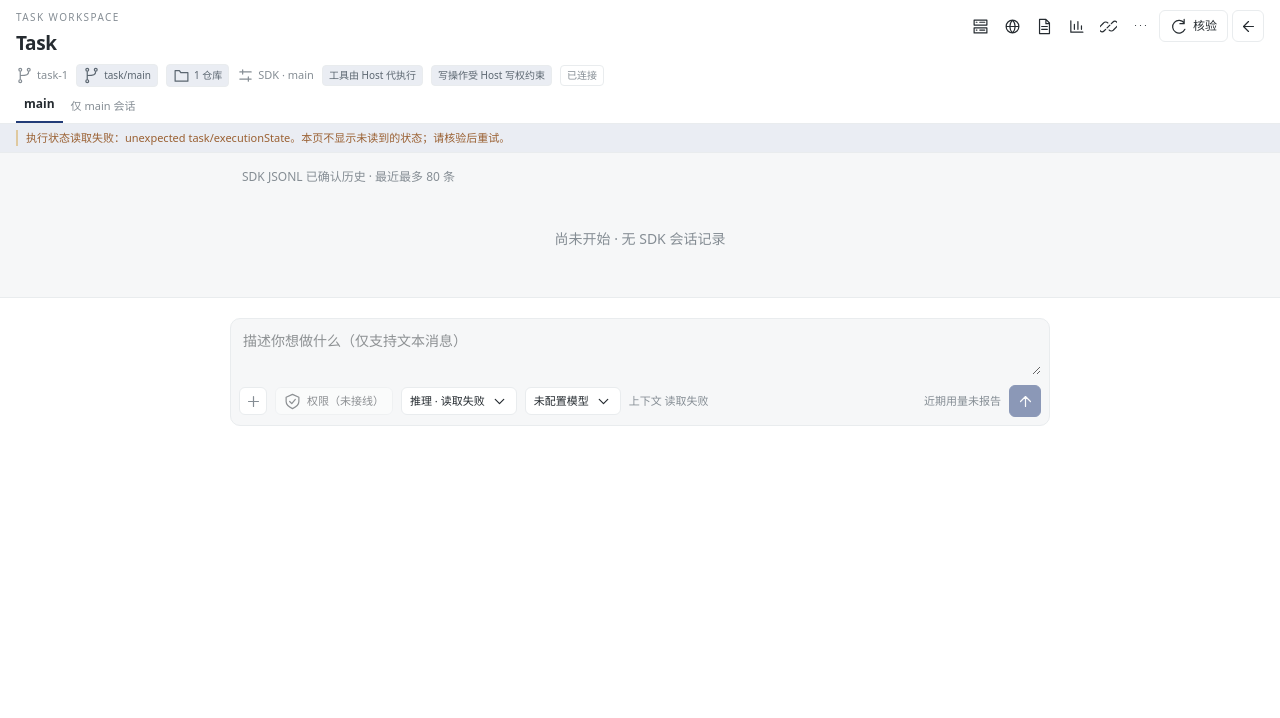
[PiDock 15] (#15 盒 3) 文件引用在桌面输入区 › puts a worktree file reference in the composer with its root name and source
Check: the text "尚未开始 · 无 SDK 会话记录" is shown, box left=554, top=229, right=725, bottom=248
Step 1. Click the button named "文件" → (1045, 26), box left=1031, top=12, right=1059, bottom=40
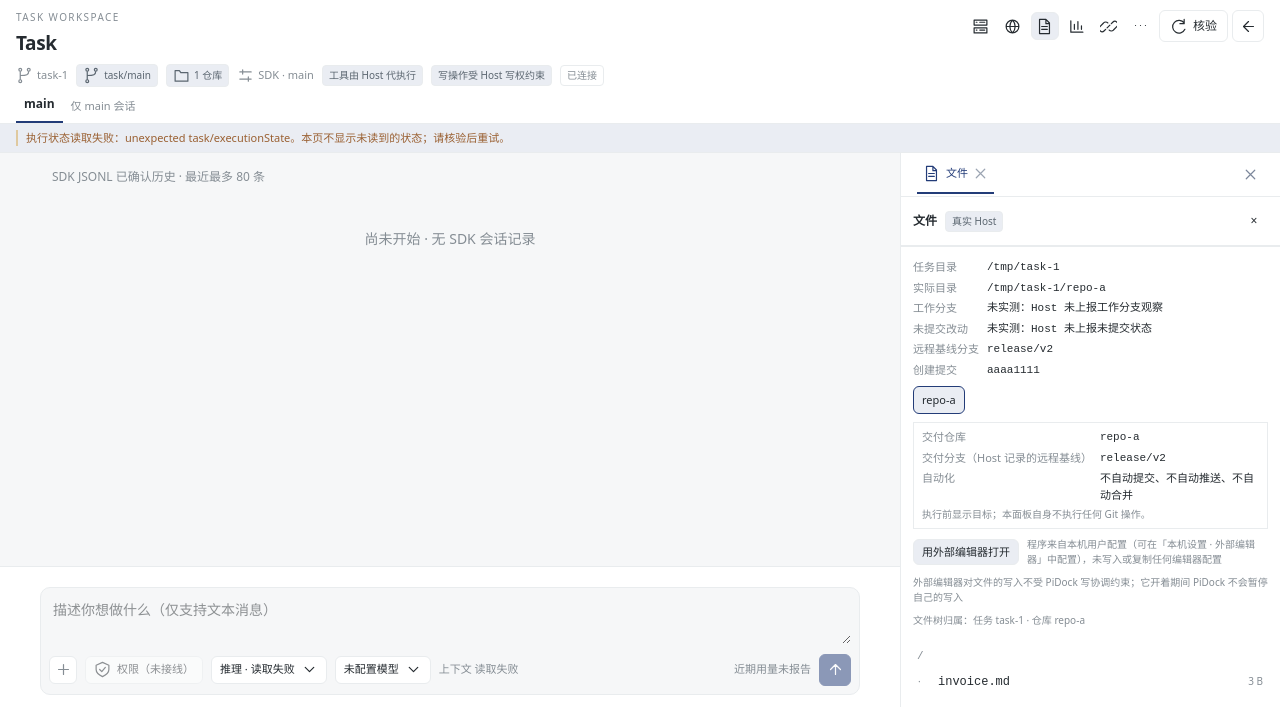
Step 2. Click the text "invoice.md" → (974, 682), box left=938, top=674, right=1010, bottom=690
(page scrolled)
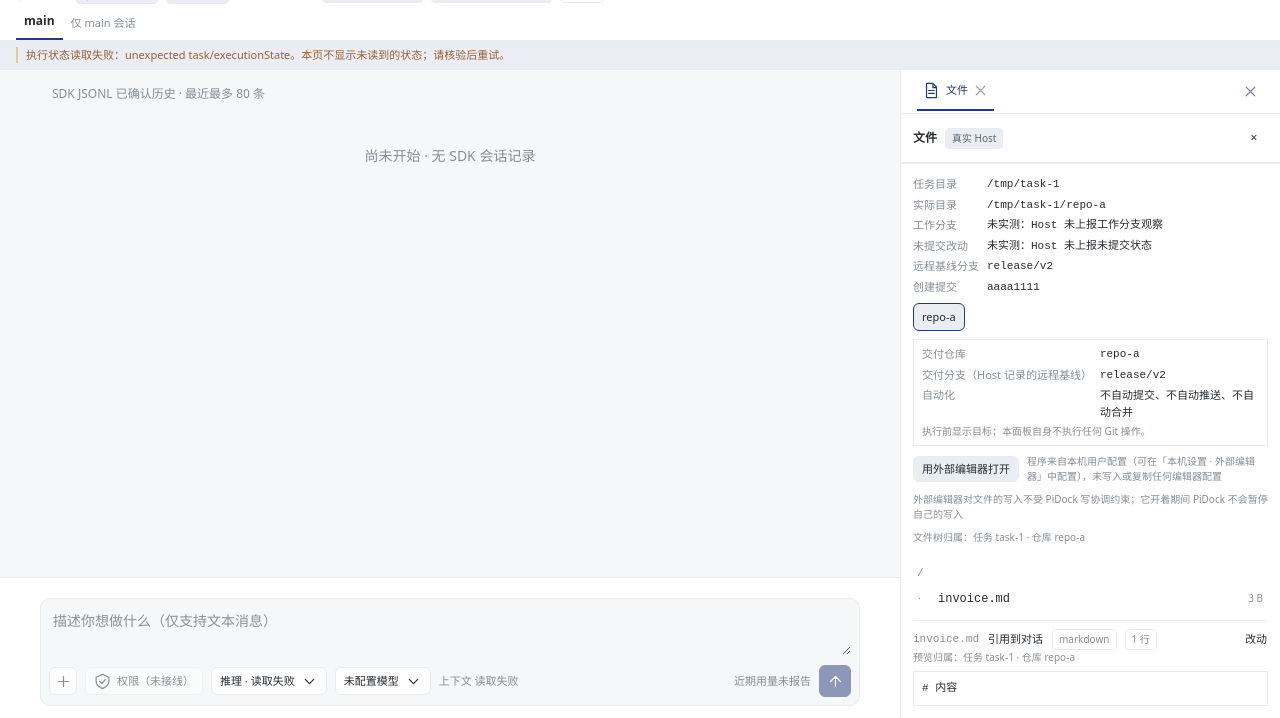
Check: the element with test id "dock-preview-attribution" is shown, box left=913, top=650, right=1075, bottom=664
Step 3. Click the button "引用到对话" → (1016, 639), box left=987, top=630, right=1044, bottom=648
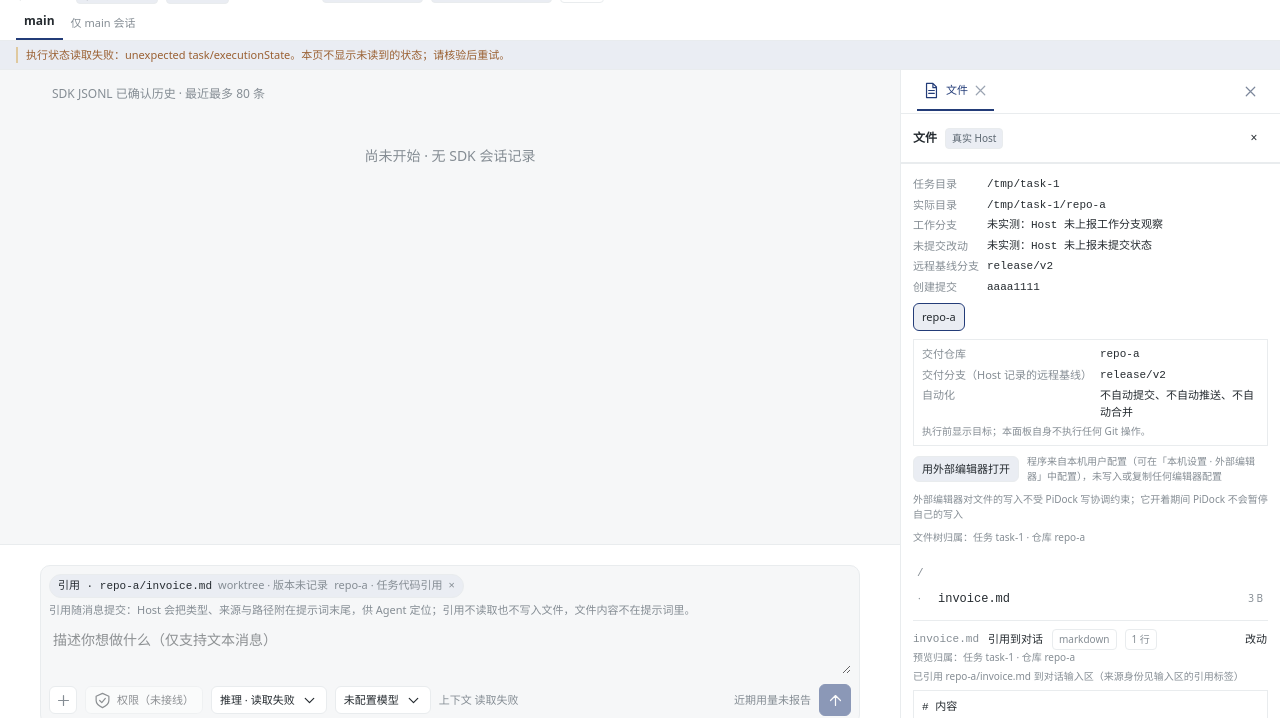
Check: the list item with test id "composer-file-reference-task-file:repo-a:invoice.md" shows "repo-a/invoice.md", box left=100, top=580, right=212, bottom=592
Check: the list item with test id "composer-file-reference-task-file:repo-a:invoice.md" shows "worktree", box left=218, top=577, right=328, bottom=592
Check: the list item with test id "composer-file-reference-task-file:repo-a:invoice.md" shows "版本未记录", box left=218, top=577, right=328, bottom=592
